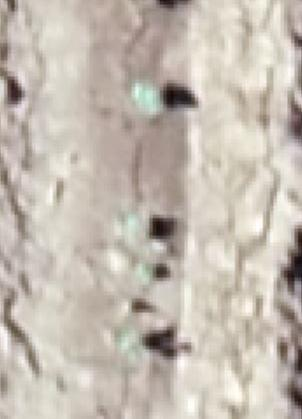cotton: (135, 85, 160, 108), (124, 337, 145, 355), (139, 266, 152, 275)
